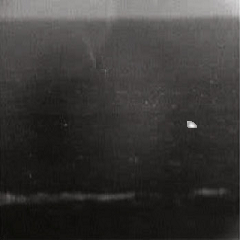Target: (183, 119, 197, 128)
